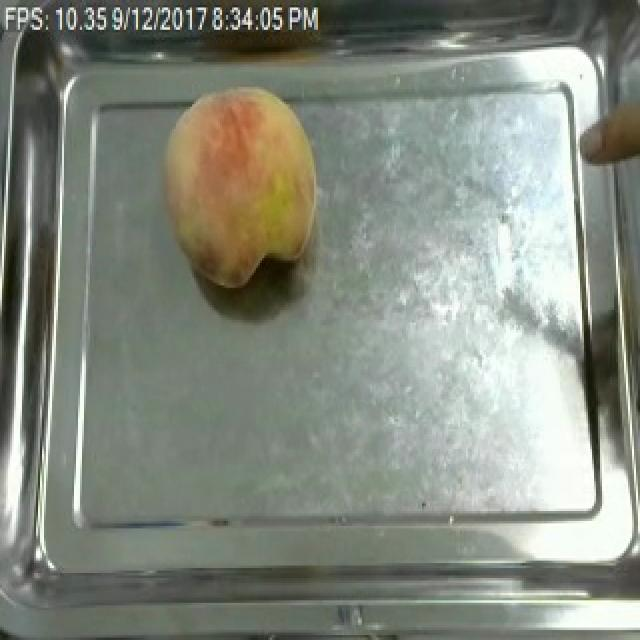Fruit: (152, 80, 328, 296)
